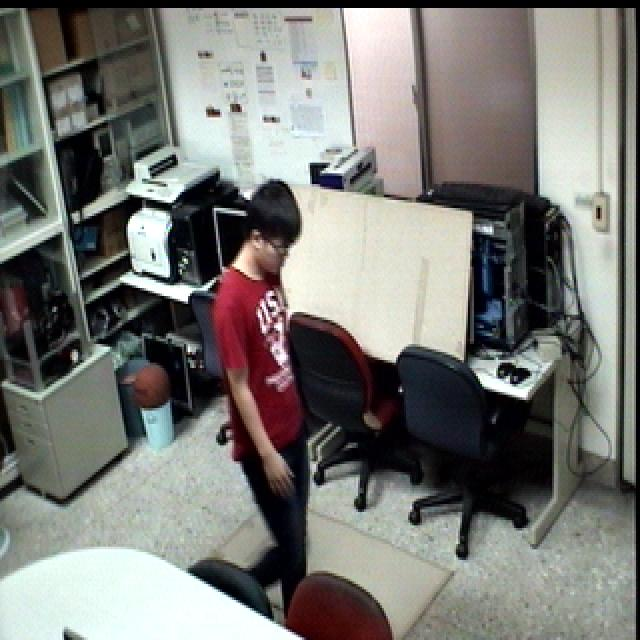stand: (204, 177, 320, 624)
